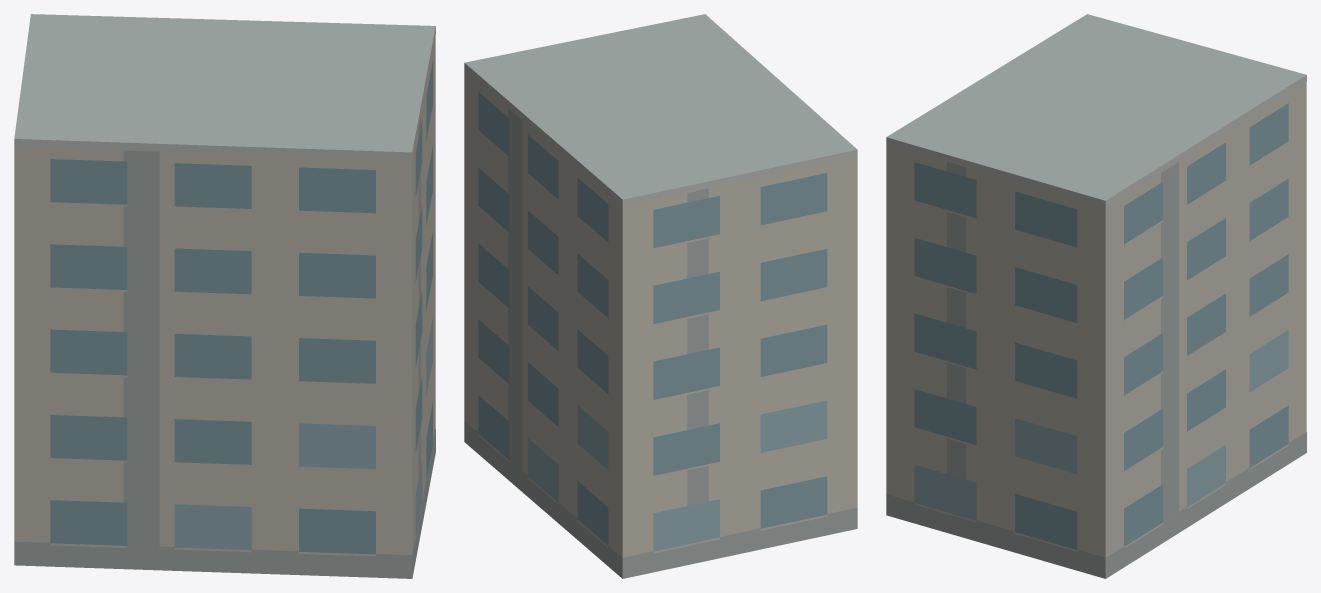
File: survey-upis-32892414.glb
The picture shows the model from 3 angles, left to right: view 1: azimuth 30°, elevation 25°; view 2: azimuth 150°, elevation 25°; view 3: azimuth 270°, elevation 25°; orthographic projection. The views are drawn at different scales.
Visible parts, largest first — view 1: survey-upis-32892414.tmp; view 2: survey-upis-32892414.tmp; view 3: survey-upis-32892414.tmp.
Boxes of the visible parts, left/top/right/bottom form: survey-upis-32892414.tmp: left=14, top=14, right=435, bottom=578; survey-upis-32892414.tmp: left=464, top=14, right=857, bottom=578; survey-upis-32892414.tmp: left=886, top=14, right=1306, bottom=578.
Bounding box in the file's own units: 14 × 13.2 × 13.31.
